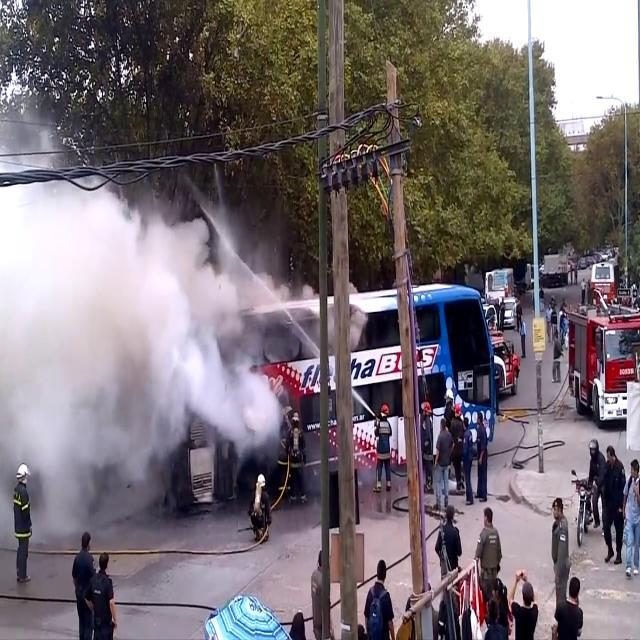Smoke: (0, 173, 284, 528)
